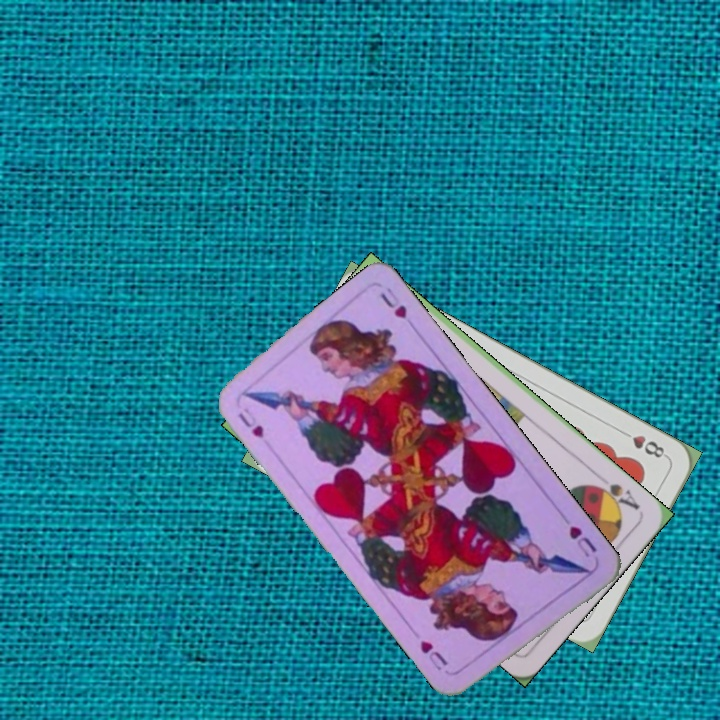H8: (616, 426, 670, 461)
HU: (564, 521, 600, 560), (233, 403, 267, 441)
SA: (588, 479, 643, 514)
